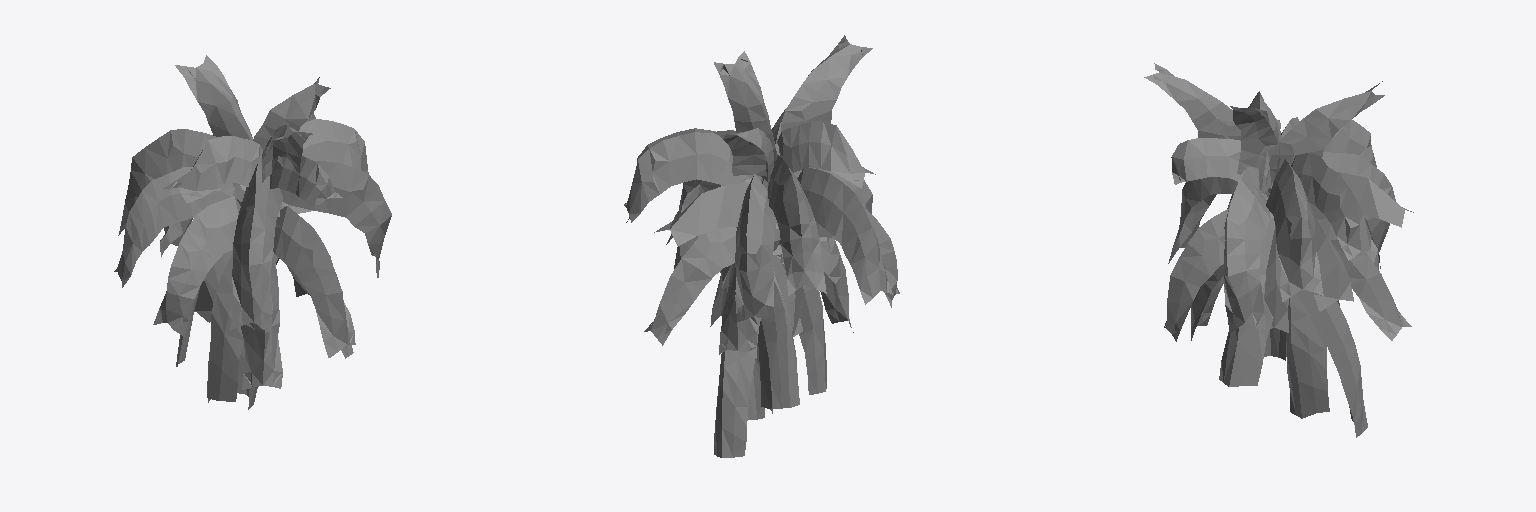
File: leaf1.obj
The picture shows the model from 3 angles: view 1: azimuth 30°, elevation 25°; view 2: azimuth 150°, elevation 25°; view 3: azimuth 270°, elevation 25°; orthographic projection.
Visible parts, largest first — view 1: COCO_02, COCO_04; view 2: COCO_02, COCO_04; view 3: COCO_02, COCO_04.
Boxes of the visible parts, x1=… form: COCO_02: x1=114, y1=55, x2=391, y2=389; COCO_04: x1=176, y1=183, x2=353, y2=409; COCO_02: x1=624, y1=35, x2=899, y2=358; COCO_04: x1=710, y1=177, x2=826, y2=457; COCO_02: x1=1144, y1=63, x2=1413, y2=341; COCO_04: x1=1219, y1=188, x2=1367, y2=437.
Bounding box in the file's own units: 891 × 1148 × 810.